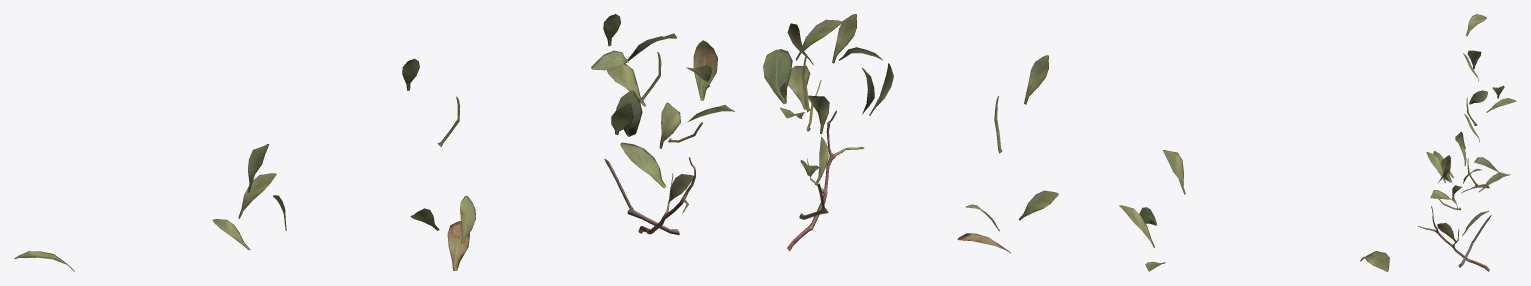
The model's file is shrub_04.glb.
3 renders of one model, left to right at view 1: azimuth 30°, elevation 25°; view 2: azimuth 150°, elevation 25°; view 3: azimuth 270°, elevation 25°, orthographic. The views are drawn at different scales.
Parts seen in each view (by area): view 1: shrub_04; view 2: shrub_04; view 3: shrub_04.
Boxes of the visible parts, x1,y1,x2,y2 form: shrub_04: (14,14,734,271); shrub_04: (763,14,1389,271); shrub_04: (1418,14,1516,271).
Size of the model in its own units: 0.5765 by 0.2057 by 0.1256.
1 material, 1 textured.
